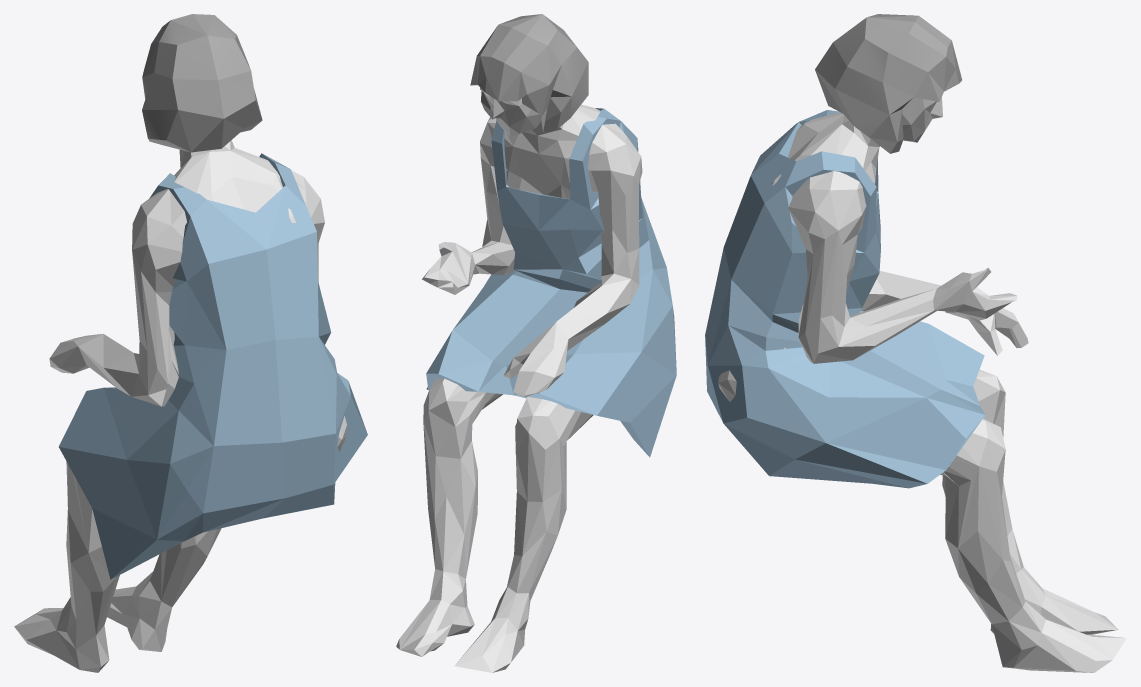
The model's file is female_sit.fbx.
The picture shows the model from 3 angles, left to right: view 1: azimuth 30°, elevation 25°; view 2: azimuth 150°, elevation 25°; view 3: azimuth 270°, elevation 25°; orthographic projection. The views are drawn at different scales.
Visible parts, largest first — view 1: polySurface48; view 2: polySurface48; view 3: polySurface48.
Part boxes in pixels (box(x1,y1,x2,y2)): polySurface48: box(14, 14, 367, 672); polySurface48: box(396, 14, 676, 672); polySurface48: box(705, 14, 1126, 672).
Bounding box in the file's own units: 43.86 × 131 × 77.79.
